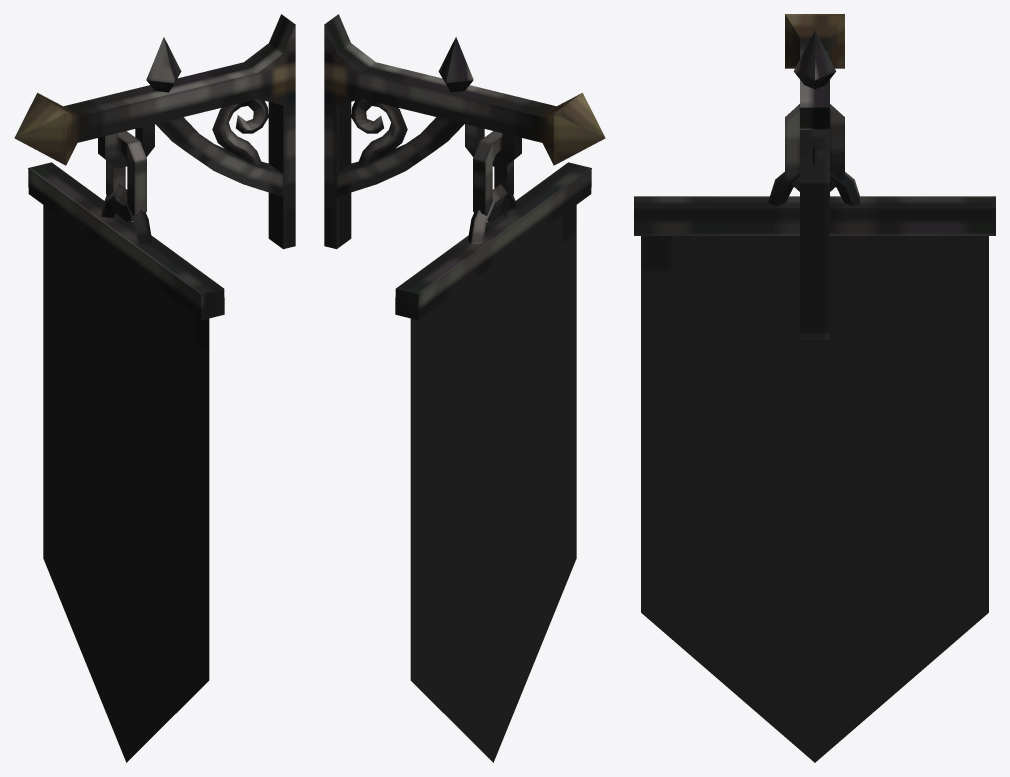
The model's file is EnvMdrMD_Castle_A_Flag_C.FBX.
3 views of the same model, side by side, from view 1: azimuth 30°, elevation 25°; view 2: azimuth 150°, elevation 25°; view 3: azimuth 270°, elevation 25° (orthographic). The views are drawn at different scales.
Visible parts, largest first — view 1: EnvMdrMD_Castle_A_Flag_C; view 2: EnvMdrMD_Castle_A_Flag_C; view 3: EnvMdrMD_Castle_A_Flag_C.
Boxes of the visible parts, box(x1,y1,x2,y2) form: EnvMdrMD_Castle_A_Flag_C: box(14, 14, 295, 762); EnvMdrMD_Castle_A_Flag_C: box(324, 14, 605, 762); EnvMdrMD_Castle_A_Flag_C: box(634, 14, 995, 762).
Size of the model in its own units: 110 by 275 by 120.
1 material, 1 textured.
